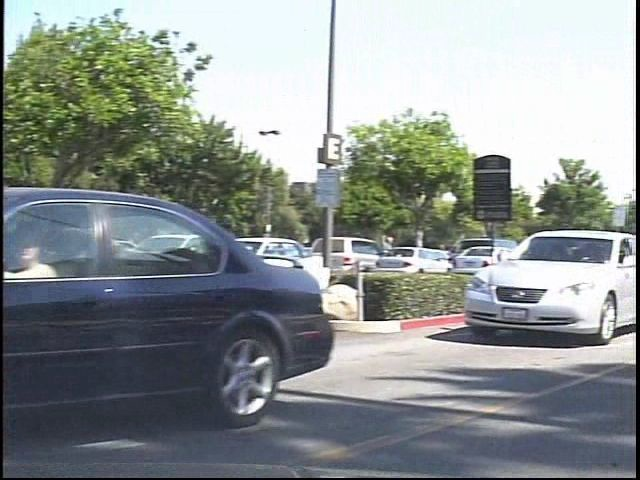person: (386, 230, 414, 282)
